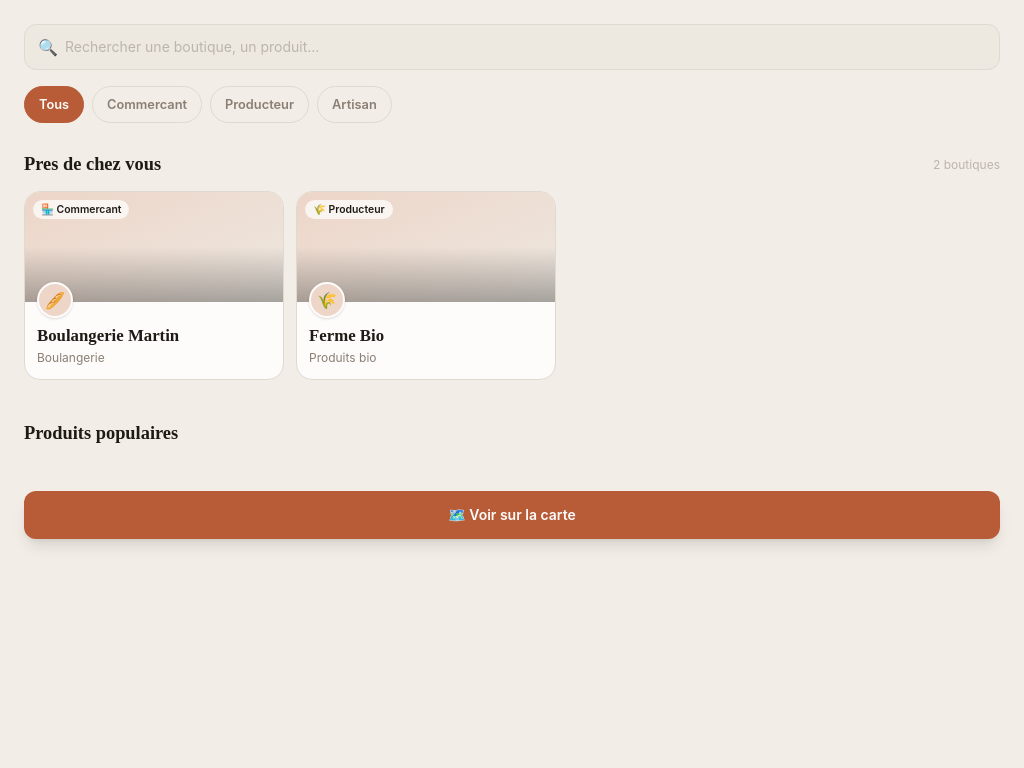
Scenario: LandingClient › filters by type
Click the button "Producteur": x=260, y=105 [210,86,309,123]
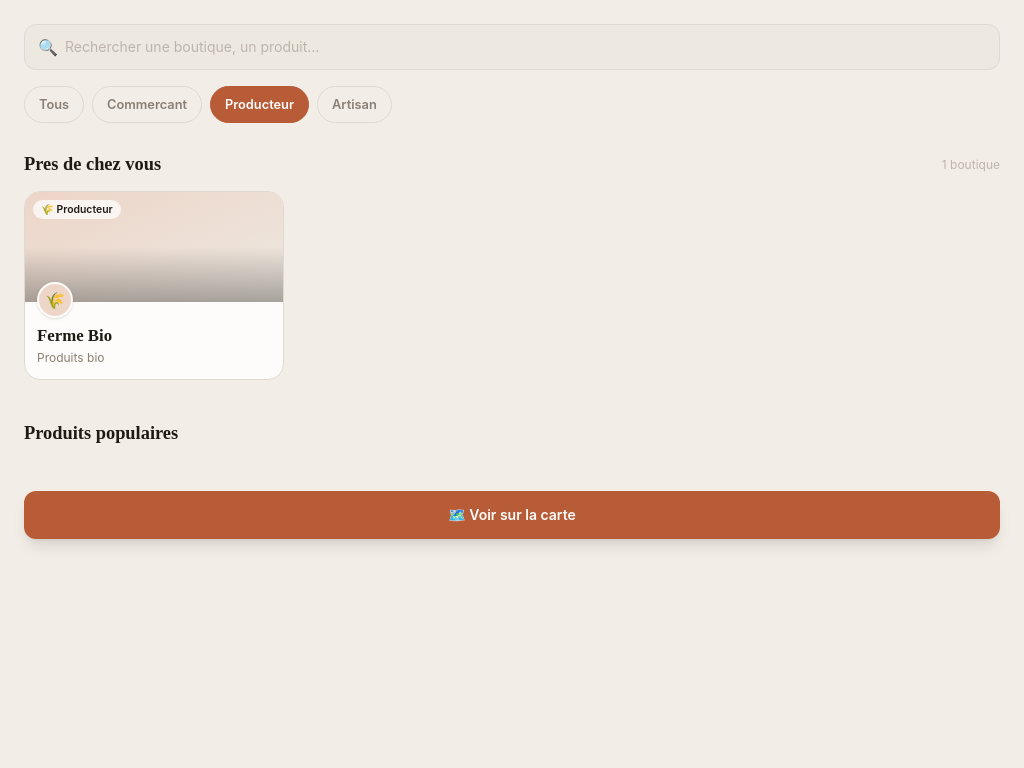
Check: the heading "Ferme Bio" is shown, box [37,326,112,345]
Check: the link "Boulangerie Martin" is gone
